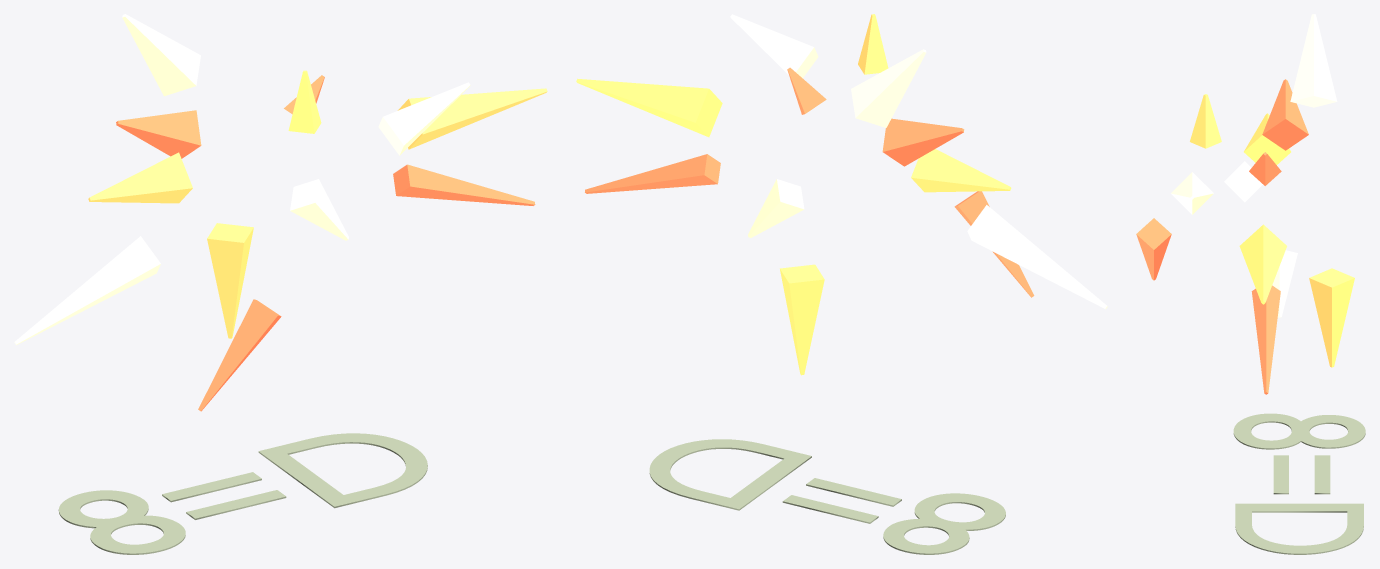
Rendered from eight.glb.
The picture shows the model from 3 angles, left to right: view 1: azimuth 30°, elevation 25°; view 2: azimuth 150°, elevation 25°; view 3: azimuth 270°, elevation 25°; orthographic projection. The views are drawn at different scales.
Parts seen in each view (by area): view 1: 8=D Pop dimensional effect.001, 8=D.001; view 2: 8=D Pop dimensional effect.001, 8=D.001; view 3: 8=D Pop dimensional effect.001, 8=D.001.
Boxes of the visible parts, box(x1,y1,x2,y2) form: 8=D Pop dimensional effect.001: box(14, 14, 547, 411); 8=D.001: box(58, 433, 427, 554); 8=D Pop dimensional effect.001: box(576, 14, 1107, 375); 8=D.001: box(649, 439, 1005, 554); 8=D Pop dimensional effect.001: box(1136, 14, 1354, 394); 8=D.001: box(1233, 413, 1365, 554).
Size of the model in its own units: 1.55 by 1.36 by 0.6683.
